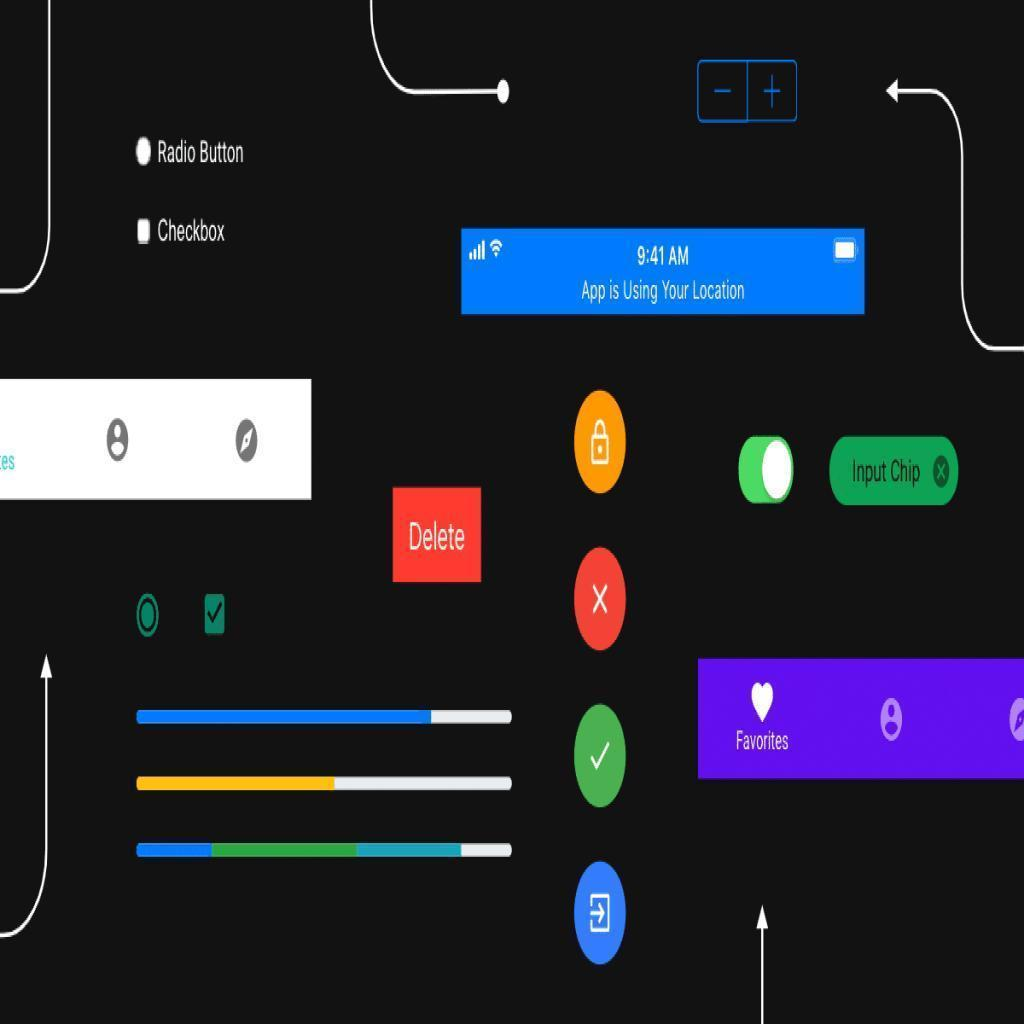button: (831, 437, 957, 506), (391, 489, 482, 583)
checkbox: (204, 594, 227, 636), (136, 220, 152, 246)
label: (156, 137, 245, 165), (154, 217, 233, 243)
radio: (135, 591, 163, 643), (135, 135, 153, 166)
switch: (737, 435, 793, 505)
